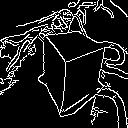cube: (40, 26, 107, 114)
